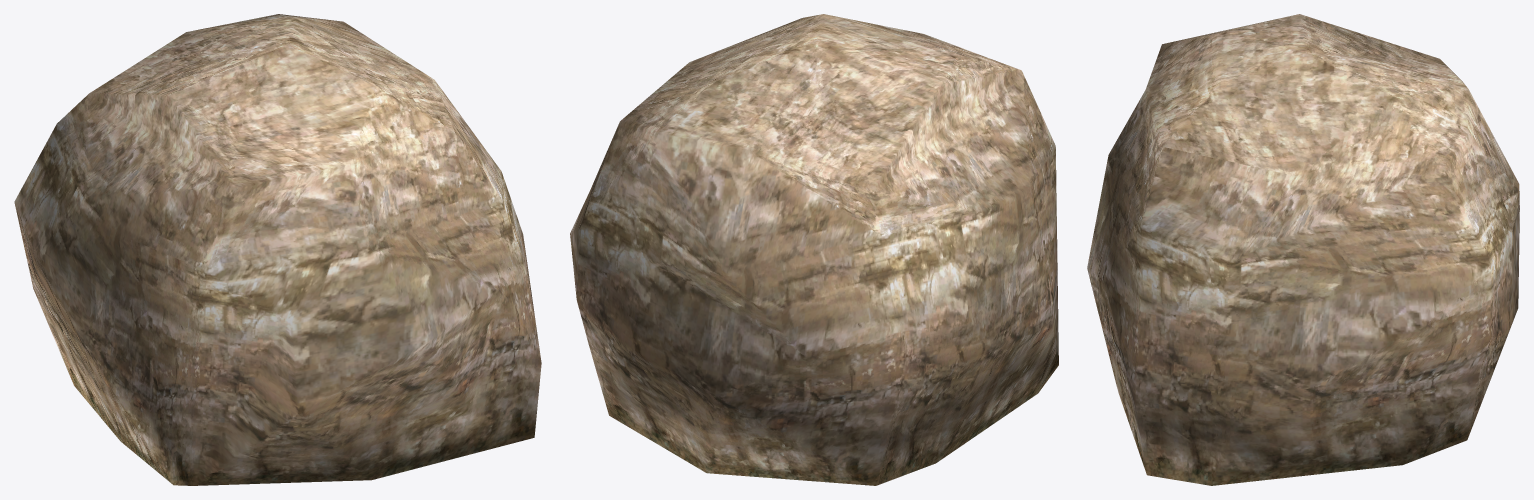
Rendered from thm_all_cavewall_a1_l2.fbx.
The picture shows the model from 3 angles, left to right: view 1: azimuth 30°, elevation 25°; view 2: azimuth 150°, elevation 25°; view 3: azimuth 270°, elevation 25°; orthographic projection. The views are drawn at different scales.
Visible parts, largest first — view 1: mesh_node; view 2: mesh_node; view 3: mesh_node.
Boxes of the visible parts, bbox=[...] form: mesh_node: bbox=[14, 14, 541, 485]; mesh_node: bbox=[570, 14, 1058, 485]; mesh_node: bbox=[1087, 14, 1519, 485].
Size of the model in its own units: 10.81 by 10.79 by 10.77.
